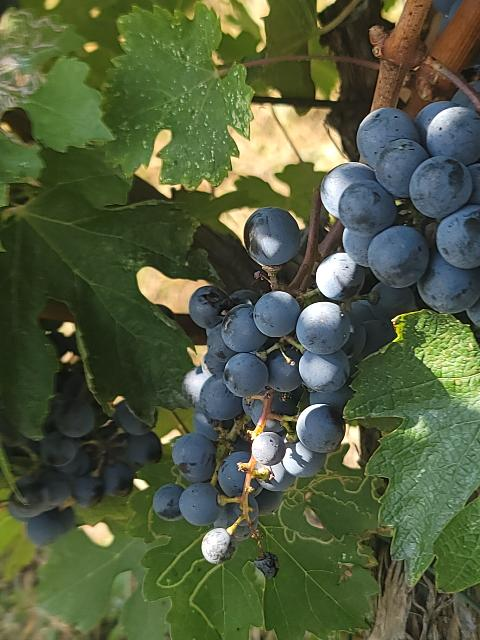grapes: (152, 208, 365, 578), (321, 106, 479, 321)
